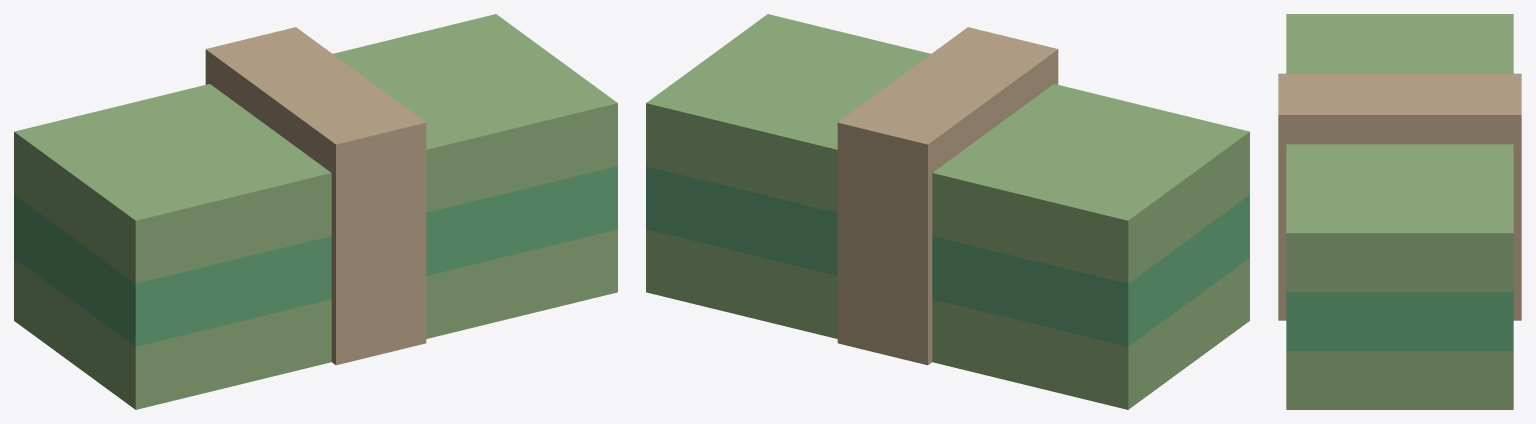
Rendered from Esya_Para.glb.
3 renders of one model, left to right at view 1: azimuth 30°, elevation 25°; view 2: azimuth 150°, elevation 25°; view 3: azimuth 270°, elevation 25°, orthographic. The views are drawn at different scales.
Parts seen in each view (by area): view 1: Esya_Para; view 2: Esya_Para; view 3: Esya_Para.
Part boxes in pixels (<box>): Esya_Para: <box>14,14,617,409</box>; Esya_Para: <box>646,14,1249,409</box>; Esya_Para: <box>1278,14,1521,409</box>.
Bounding box in the file's own units: 0.16 × 0.07 × 0.075.
